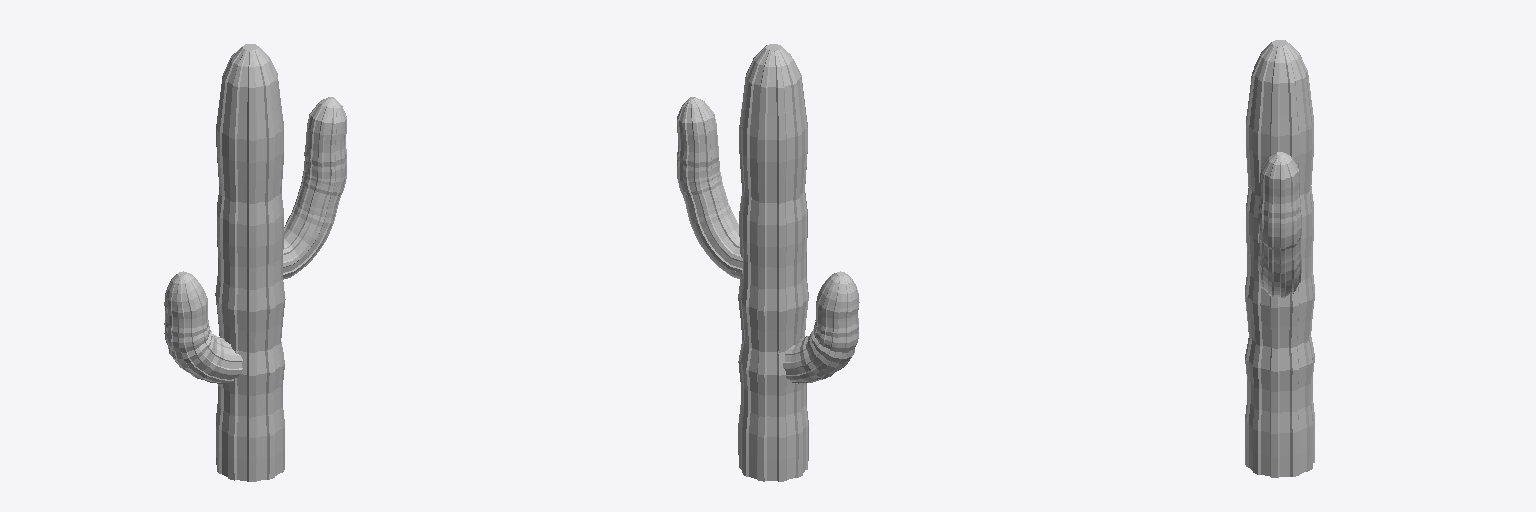
Rendered from large_cactus.obj.
3 renders of one model, left to right at view 1: azimuth 30°, elevation 25°; view 2: azimuth 150°, elevation 25°; view 3: azimuth 270°, elevation 25°, orthographic.
Parts seen in each view (by area): view 1: large_cactus; view 2: large_cactus; view 3: large_cactus.
Part boxes in pixels (x1,y1,x2,y2): large_cactus: (164, 44, 346, 481); large_cactus: (677, 44, 859, 481); large_cactus: (1245, 40, 1314, 477).
Bounding box in the file's own units: 149 × 336 × 51.43.